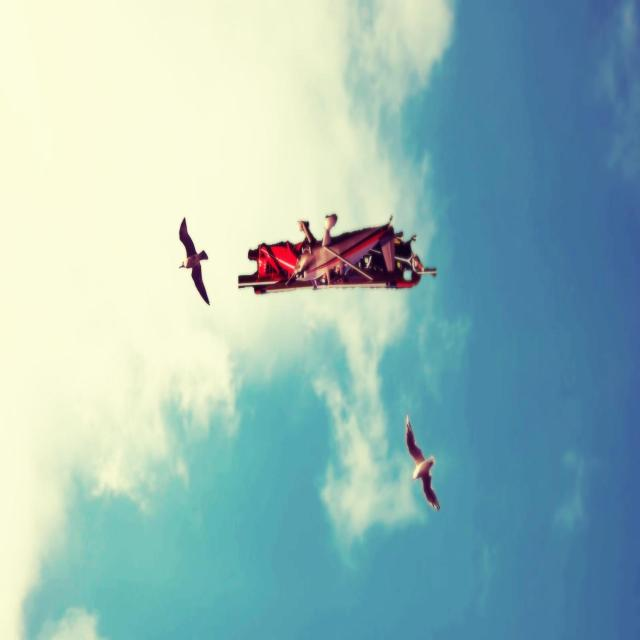airplane: (237, 212, 437, 294)
